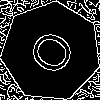O: (26, 26, 86, 83)
